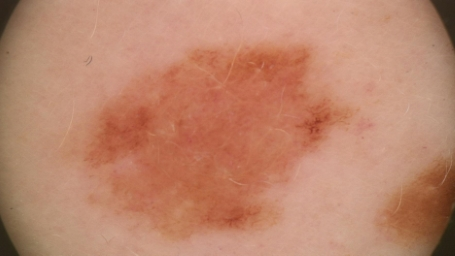nevus: (89, 50, 323, 238), (379, 167, 445, 242)
